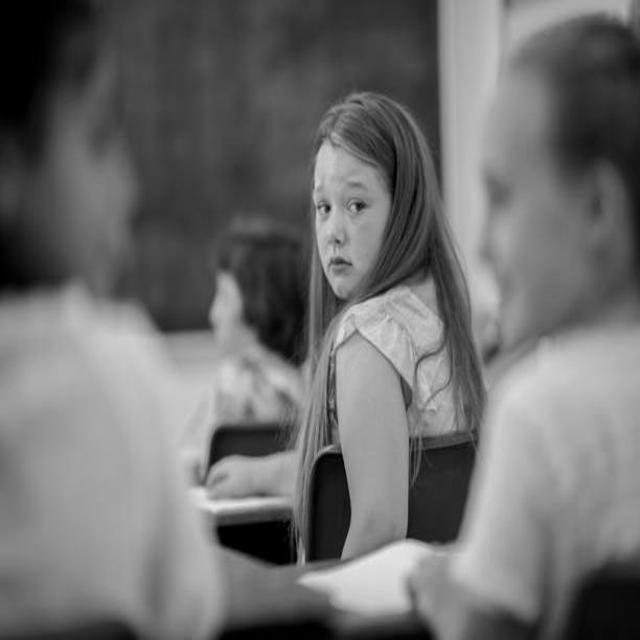Sadness: (308, 140, 397, 302)
